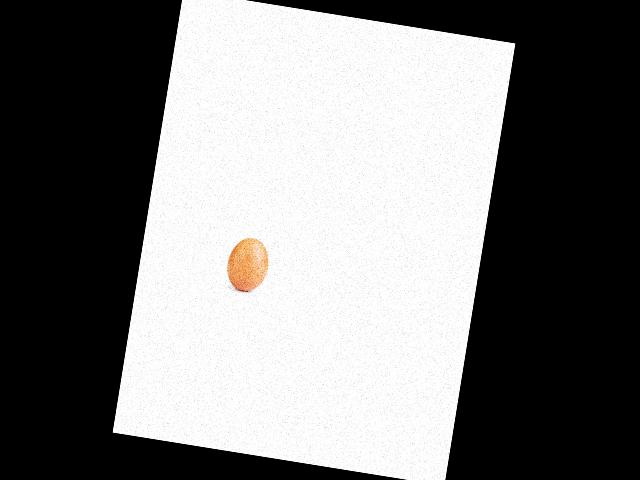egg: (223, 235, 271, 293)
